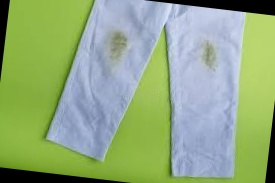earth: (106, 30, 128, 62), (198, 40, 220, 68)
